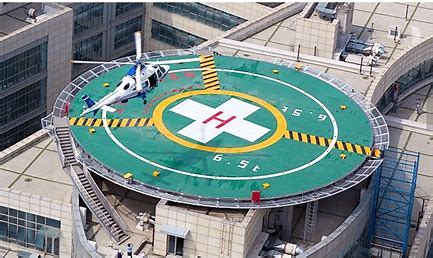H: (202, 110, 236, 128)
